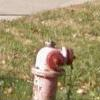Hydrant: (24, 32, 78, 100)
